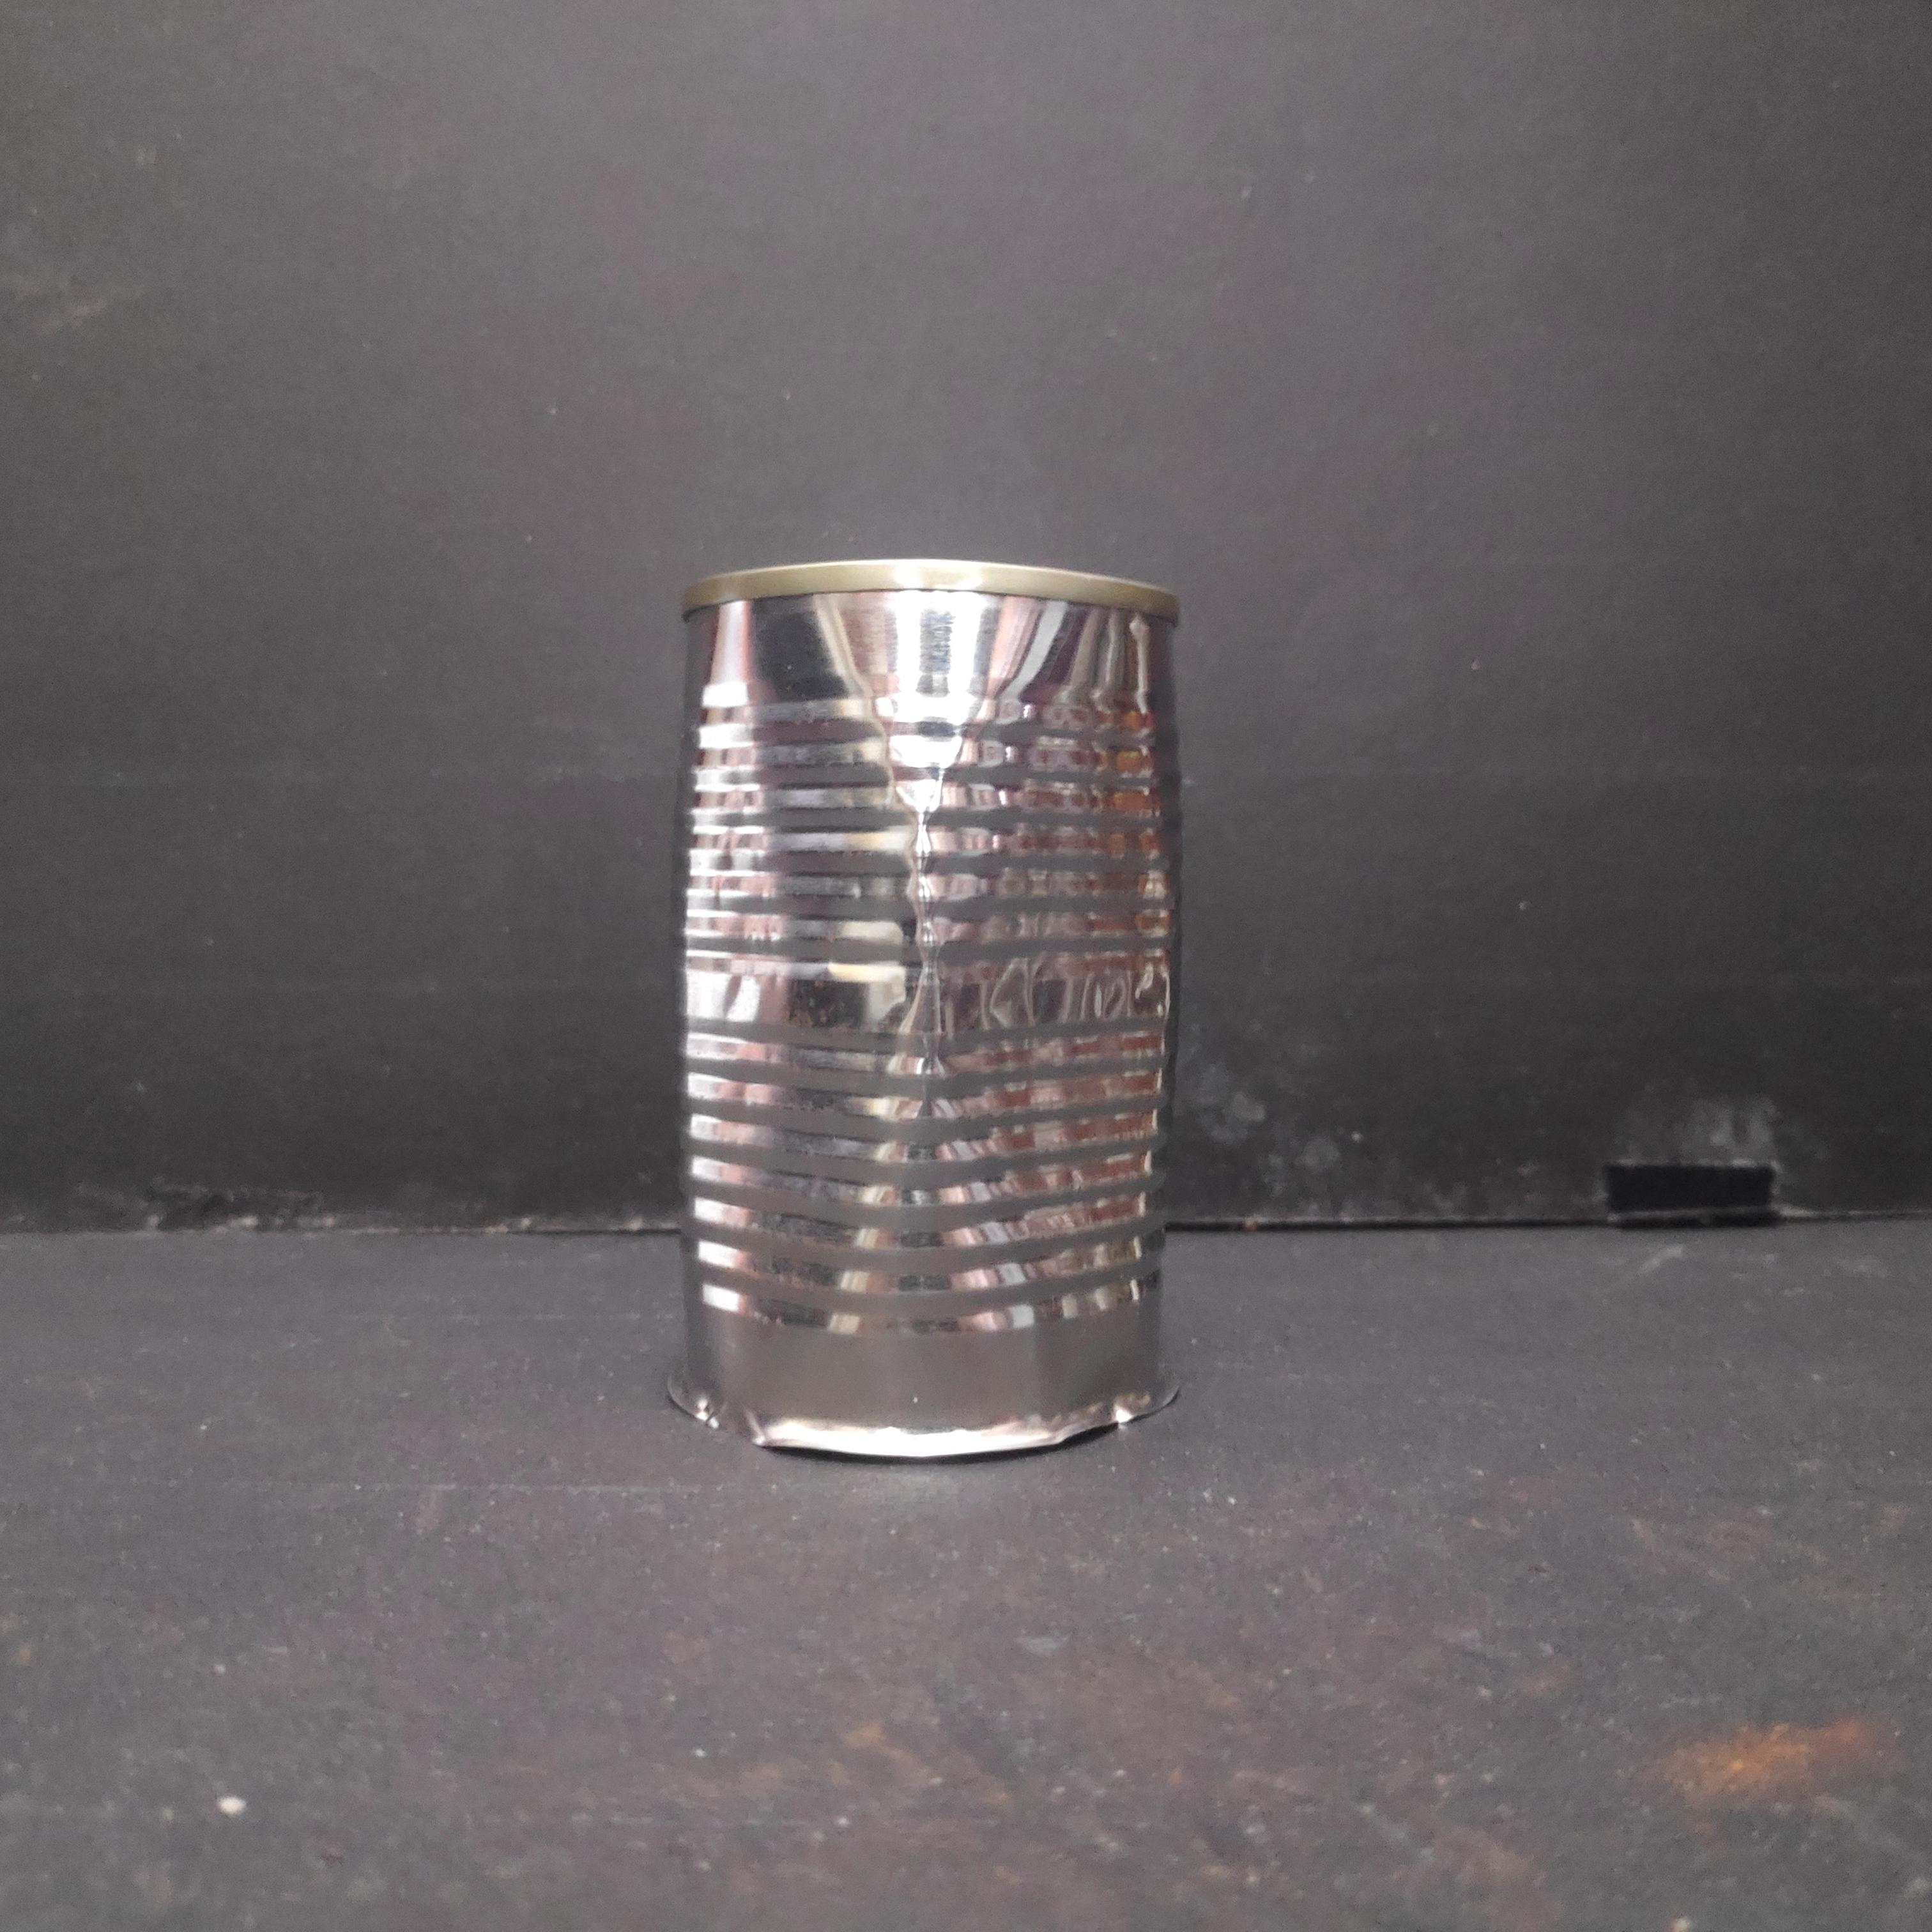Minor Defect: (660, 541, 1201, 1465)
